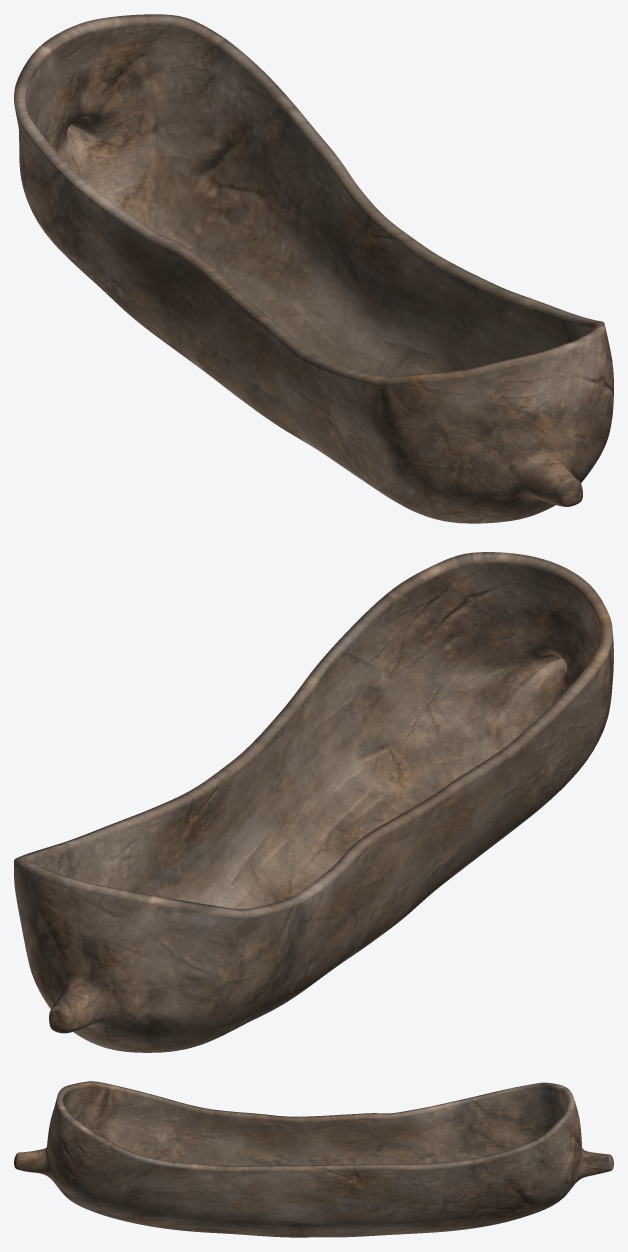
File: umuvure_final.fbx
3 views of the same model, one above another, from view 1: azimuth 30°, elevation 25°; view 2: azimuth 150°, elevation 25°; view 3: azimuth 270°, elevation 25° (orthographic). The views are drawn at different scales.
Visible parts, largest first — view 1: umuvure; view 2: umuvure; view 3: umuvure.
Boxes of the visible parts, x1,y1,x2,y2 form: umuvure: (14,14,613,523); umuvure: (14,552,613,1052); umuvure: (14,1081,613,1237).
Size of the model in its own units: 593 by 548 by 2246.
